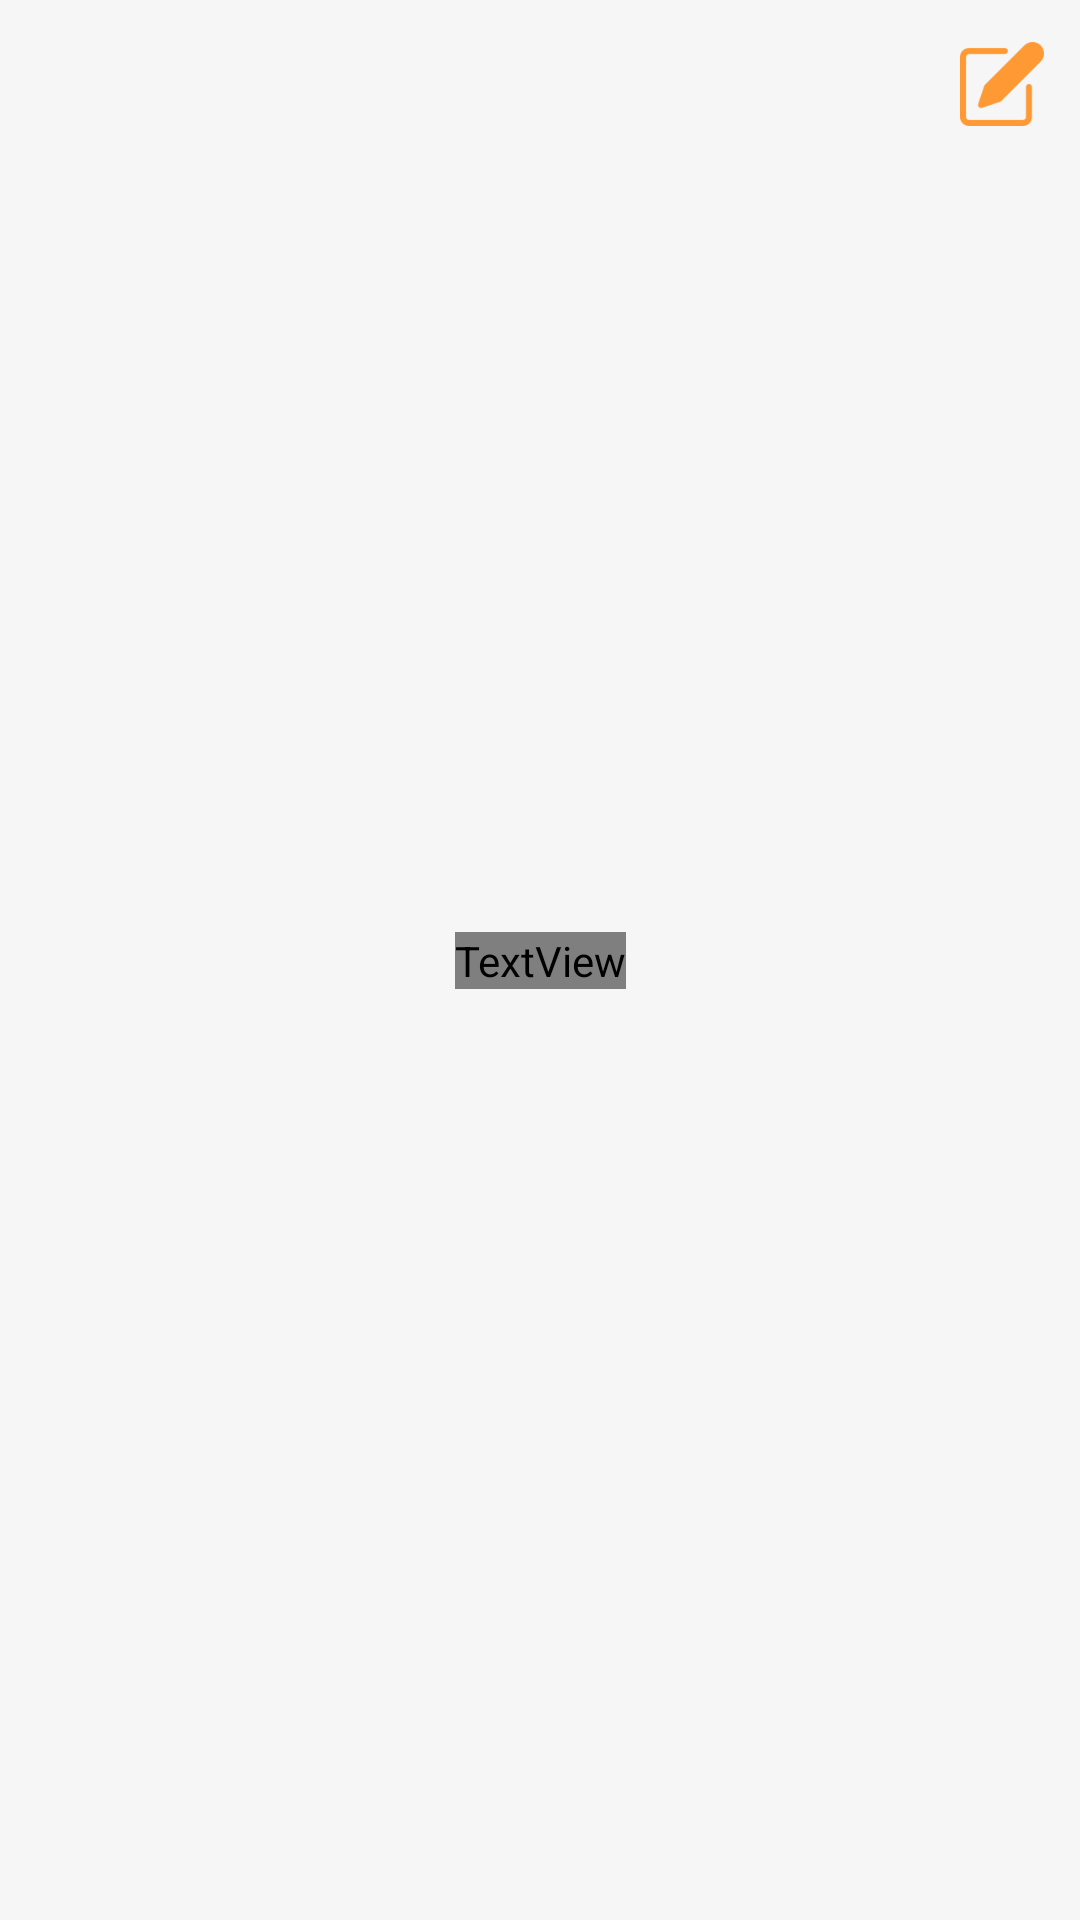

Point at icon controls on the screen. Image size 1080x1920, points as (x=x, y=y).
create home: (x=1002, y=84)
